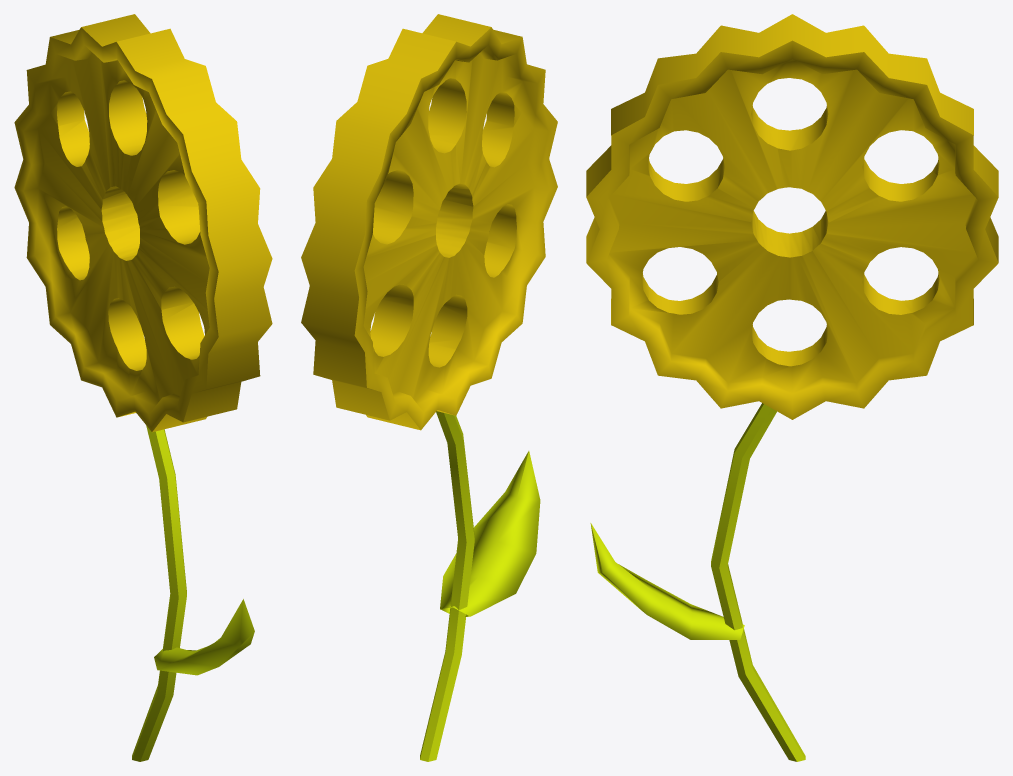
The model's file is flower1.fbx.
3 renders of one model, left to right at view 1: azimuth 30°, elevation 25°; view 2: azimuth 150°, elevation 25°; view 3: azimuth 270°, elevation 25°, orthographic.
Visible parts, largest first — view 1: gear5, pCylinder316, pPyramid1; view 2: gear5, pPyramid1, pCylinder316; view 3: gear5, pCylinder316, pPyramid1.
Boxes of the visible parts, x1,y1,x2,y2 form: gear5: (14,14,272,432); pCylinder316: (132,425,186,761); pPyramid1: (154,599,254,675); gear5: (301,14,557,430); pPyramid1: (440,451,540,616); pCylinder316: (420,411,474,761); gear5: (586,14,998,419); pCylinder316: (711,403,805,761); pPyramid1: (590,523,744,639).
Bounding box in the file's own units: 0.4429 × 4.19 × 2.14.
